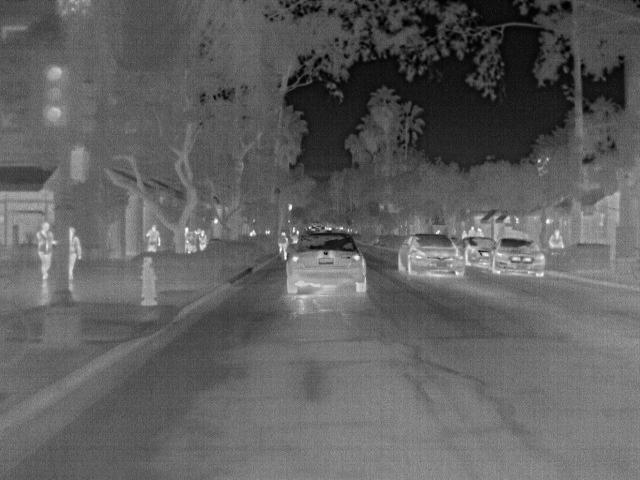car: (283, 230, 370, 294), (400, 229, 467, 278), (492, 237, 547, 280), (457, 237, 495, 269)
person: (35, 221, 55, 282), (66, 226, 82, 285), (146, 225, 163, 254), (277, 230, 290, 264), (546, 227, 567, 248), (197, 229, 209, 251)
